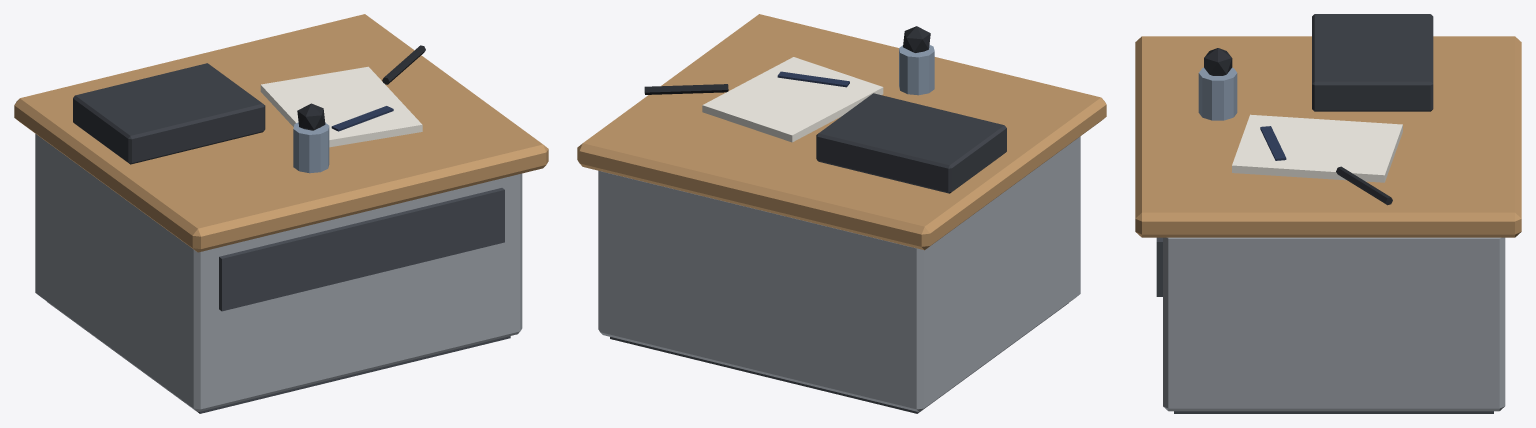
The model's file is delegation_p2_3.glb.
3 renders of one model, left to right at view 1: azimuth 30°, elevation 25°; view 2: azimuth 150°, elevation 25°; view 3: azimuth 270°, elevation 25°, orthographic. The views are drawn at different scales.
Visible parts, largest first — view 1: delegation_p2_3_mesh_Desk, delegation_p2_3_mesh; view 2: delegation_p2_3_mesh_Desk, delegation_p2_3_mesh; view 3: delegation_p2_3_mesh_Desk, delegation_p2_3_mesh.
Boxes of the visible parts, <box> form: delegation_p2_3_mesh_Desk: <box>14,14,548,413</box>; delegation_p2_3_mesh: <box>73,45,425,173</box>; delegation_p2_3_mesh_Desk: <box>577,14,1106,413</box>; delegation_p2_3_mesh: <box>644,26,1006,193</box>; delegation_p2_3_mesh_Desk: <box>1135,36,1521,413</box>; delegation_p2_3_mesh: <box>1198,14,1433,205</box>.
Size of the model in its own units: 0.78 by 0.55 by 0.7.
